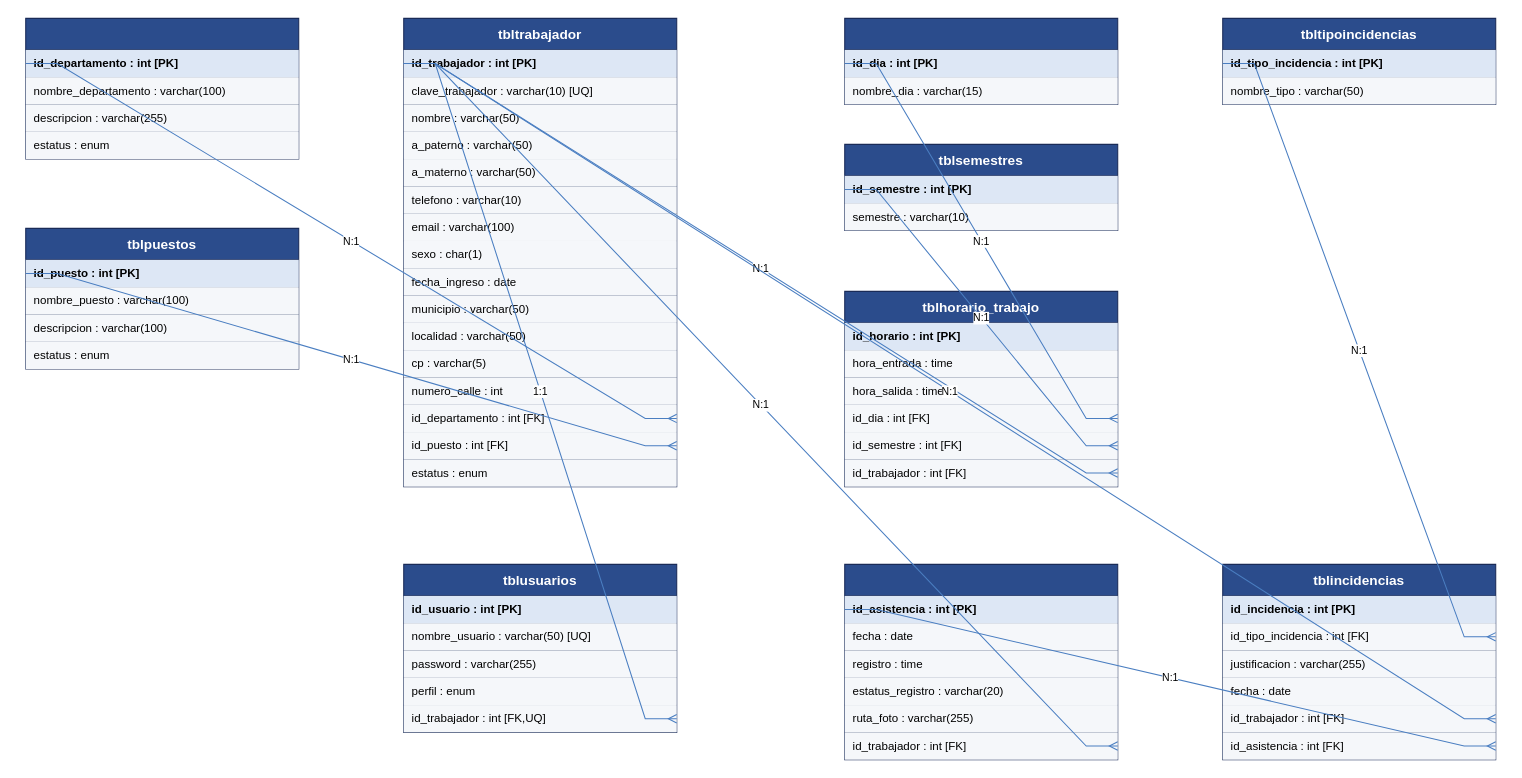
This 1522x778 diagram has some shape labels left out. Here are the shapes that lost their labels. From the top down, the box of each, then its label:
(844, 17, 1118, 104): tbldias
(25, 17, 299, 159): tbldepartamento
(844, 563, 1118, 760): tblasistencia
